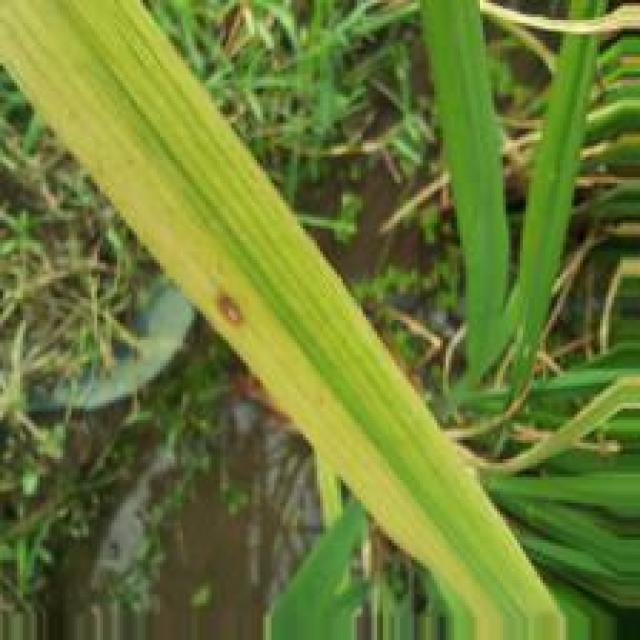Brown_Spot: (214, 279, 254, 335)
